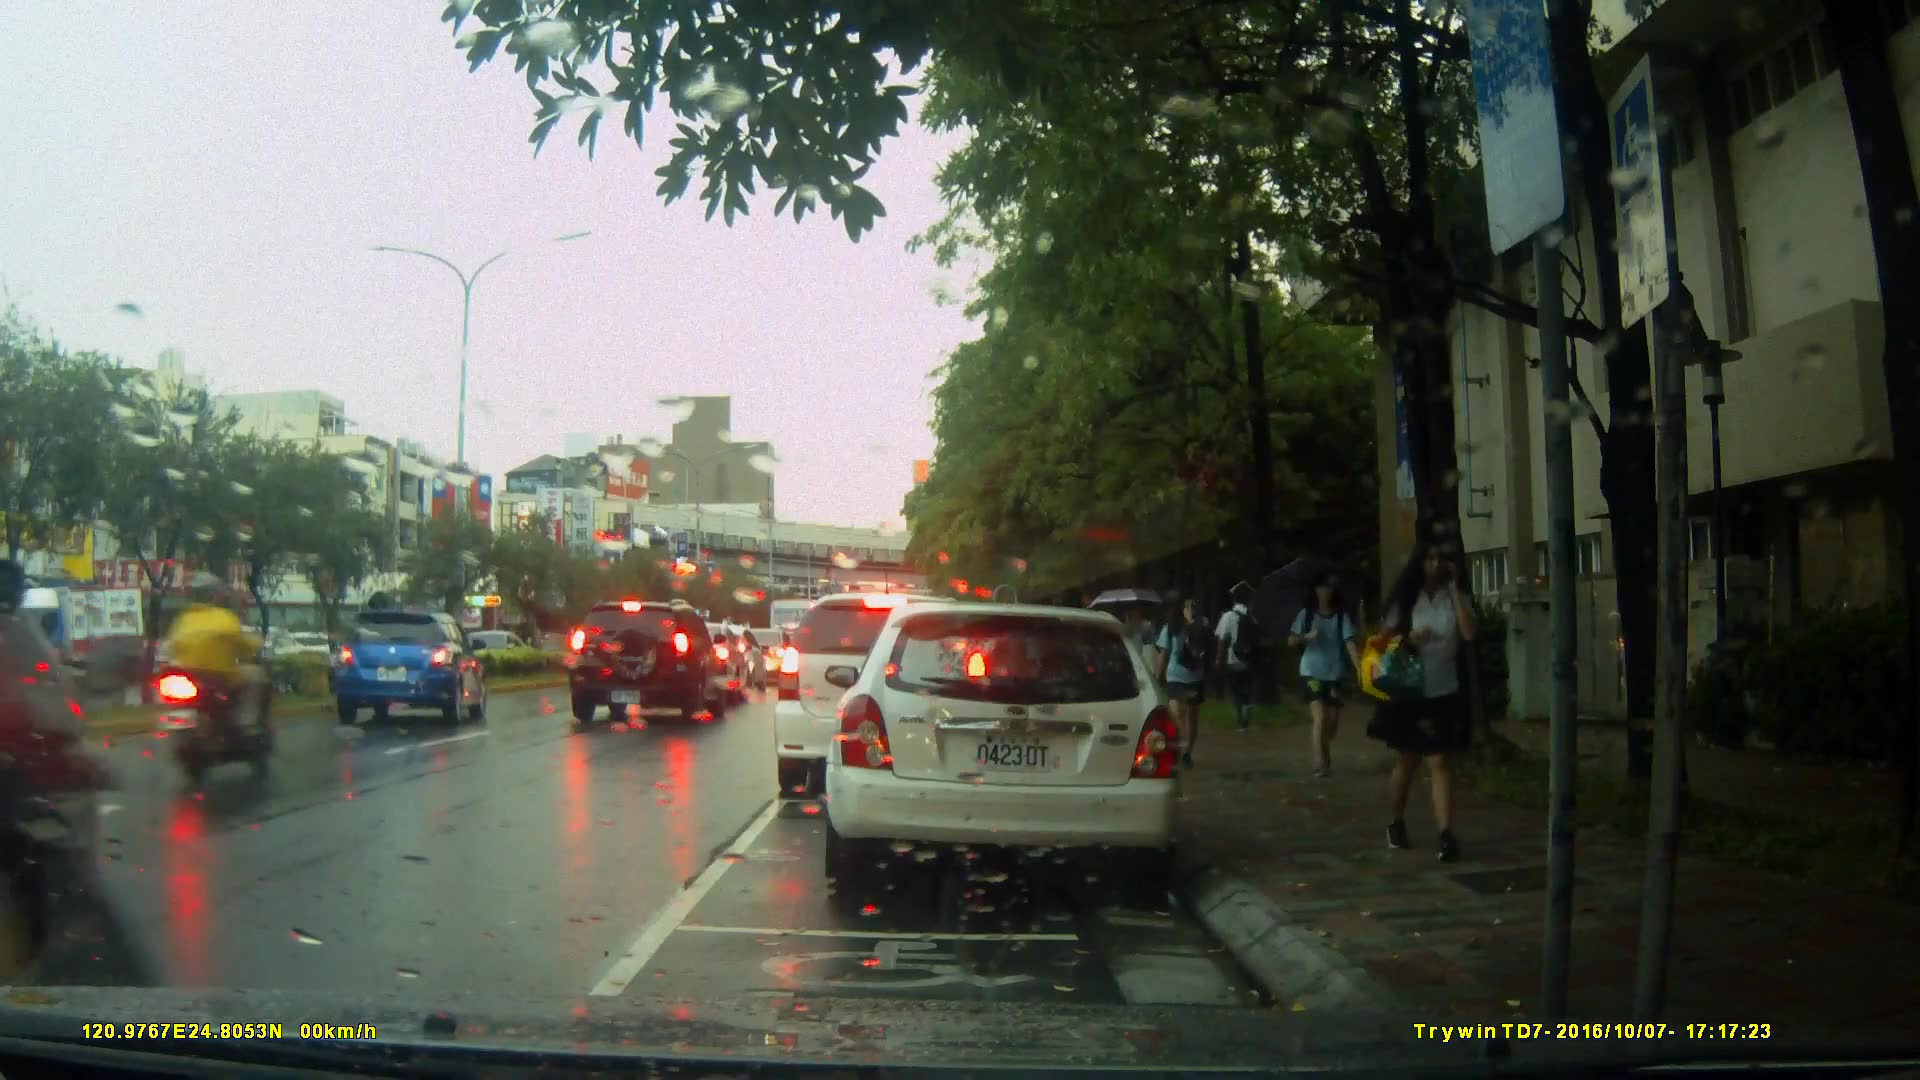pedestrian: (1385, 518, 1494, 863), (1289, 570, 1356, 783), (1162, 572, 1229, 762)
rider: (157, 570, 273, 781)
vehicle: (815, 593, 1204, 909), (771, 590, 995, 802), (565, 599, 731, 726), (330, 608, 489, 726), (1, 584, 150, 686)
